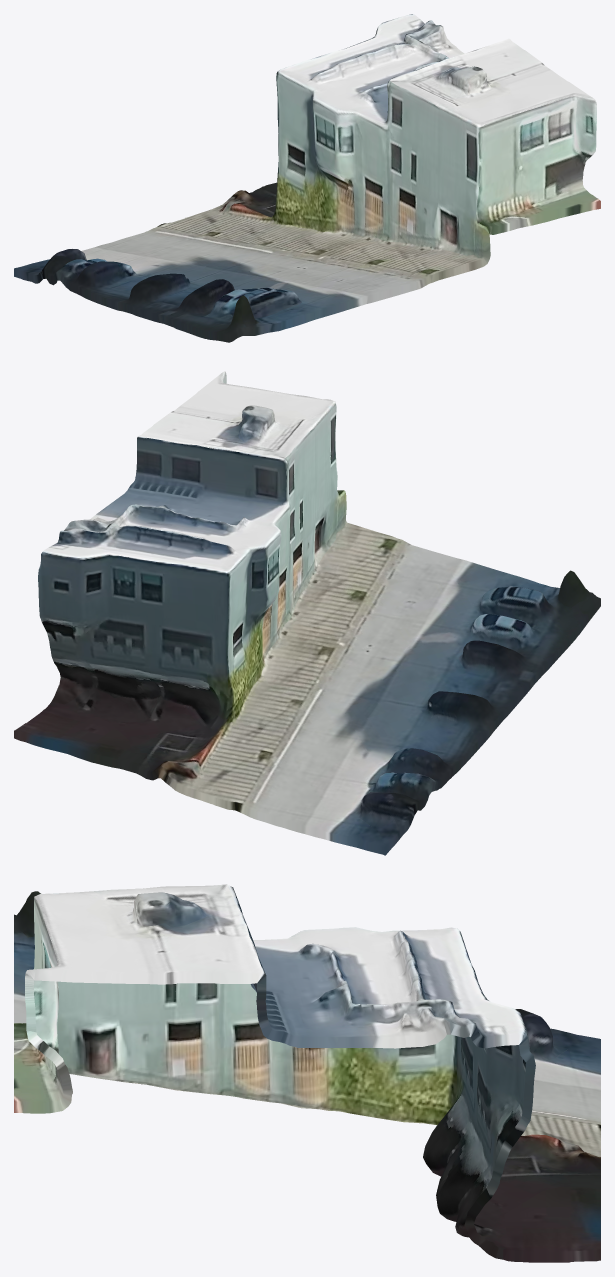
Rendered from z20-167752-405197-h0-yup-uvflip-v3-world.glb.
The picture shows the model from 3 angles, top to bottom: view 1: azimuth 30°, elevation 25°; view 2: azimuth 150°, elevation 25°; view 3: azimuth 270°, elevation 25°; orthographic projection. The views are drawn at different scales.
Bounding box in the file's own units: 30.16 × 19.76 × 30.32.
Materials: 1 (1 with a texture image).
